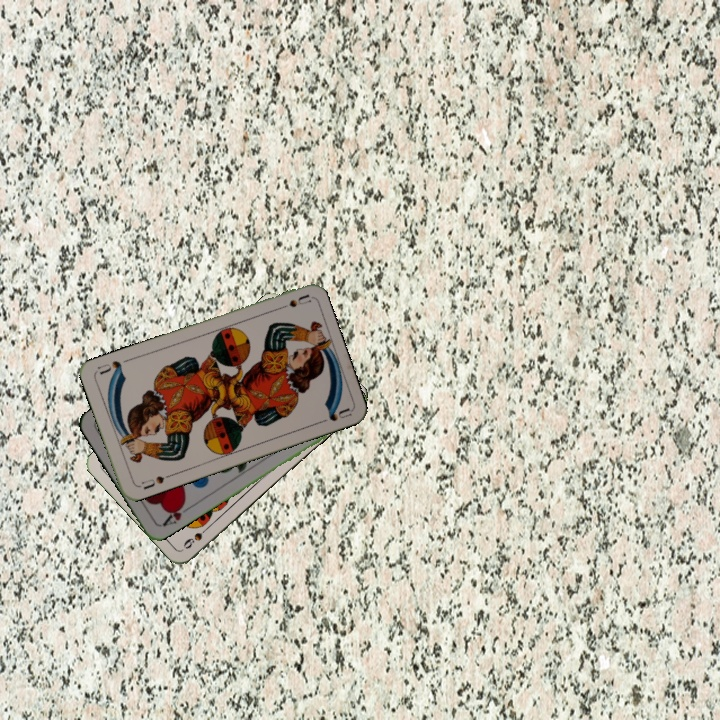HA: (158, 497, 193, 530)
S9: (179, 521, 213, 552)
SU: (272, 291, 312, 313), (137, 470, 174, 492)
